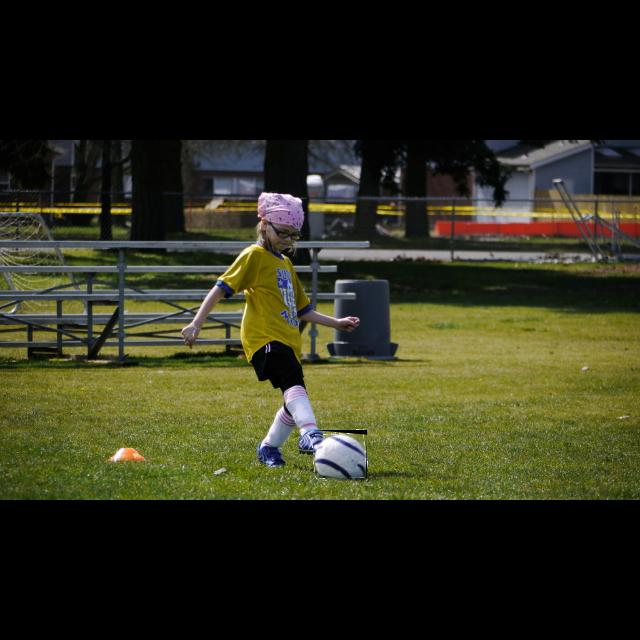Football: (313, 430, 367, 478)
